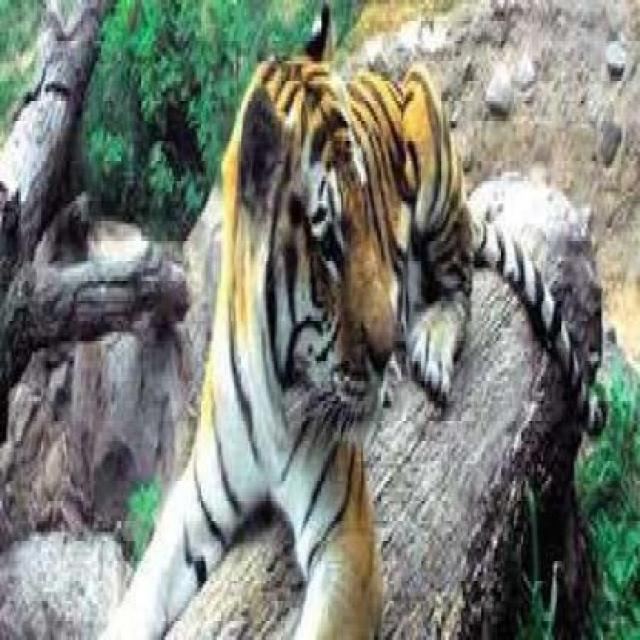Tiger: (199, 38, 512, 639)
